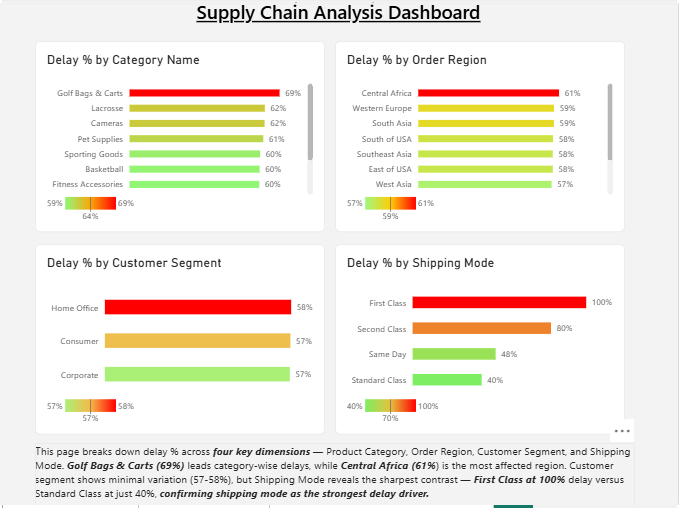

What the dashboard file says about the page in this screenshot:
{"tool":"powerbi","page":{"name":"Detailed Analysis","canvas":[960,720],"ordinal":1},"visuals":[{"type":"textbox","box":[238.3,0,483.3,75.1],"z":0},{"type":"clusteredBarChart","title":"Delay % by Category Name","fields":{"Category":["supply_chain.Category Name"],"Y":["supply_chain.Late_orders %"]},"box":[49.6,59.5,411,270.7],"z":1000},{"type":"barChart","title":"Delay % by Shipping Mode","fields":{"Category":["supply_chain.Shipping Mode"],"Y":["supply_chain.Late_orders %"]},"box":[474.8,347.2,411,270],"z":2000},{"type":"barChart","title":"Delay % by Customer Segment","fields":{"Category":["supply_chain.Customer Segment"],"Y":["supply_chain.Late_orders %"]},"box":[49.6,347.2,411,270],"z":3000},{"type":"clusteredBarChart","title":"Delay % by Order Region","fields":{"Category":["supply_chain.Order Region"],"Y":["supply_chain.Late_orders %"]},"box":[474.8,59.5,411,270.7],"z":4000},{"type":"textbox","box":[49.6,629.3,850.4,90.7],"z":5000}]}

Visuals, with their boxes in screenshot pixels (x1, y1, x2, y2), scaled from the page's 960x720 canvas onto the 679x508 screenshot:
textbox: x1=169 y1=0 x2=510 y2=53
"Delay % by Category Name" clusteredBarChart: x1=35 y1=42 x2=326 y2=233
"Delay % by Shipping Mode" barChart: x1=336 y1=245 x2=627 y2=435
"Delay % by Customer Segment" barChart: x1=35 y1=245 x2=326 y2=435
"Delay % by Order Region" clusteredBarChart: x1=336 y1=42 x2=627 y2=233
textbox: x1=35 y1=444 x2=637 y2=507
